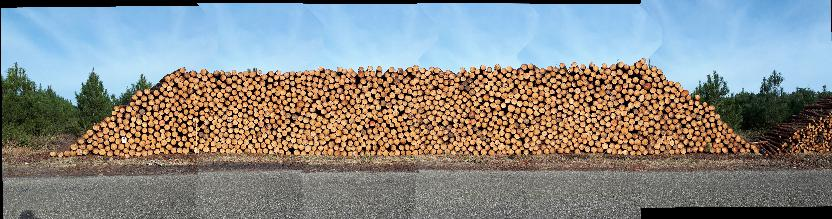object: (195, 121, 197, 154), (644, 82, 652, 90), (634, 100, 642, 108), (508, 104, 516, 112), (250, 70, 256, 78), (524, 72, 530, 80), (616, 84, 622, 92), (682, 90, 690, 96), (298, 100, 304, 108), (152, 104, 160, 110), (469, 110, 475, 118), (642, 115, 650, 121), (108, 122, 116, 128), (103, 126, 109, 134), (622, 127, 628, 135), (673, 132, 679, 140), (374, 135, 382, 141), (122, 136, 128, 144), (244, 138, 250, 146), (643, 138, 649, 146), (160, 140, 168, 146), (77, 148, 83, 156), (247, 84, 254, 90), (226, 86, 233, 92), (654, 115, 661, 121), (663, 124, 670, 130), (632, 145, 639, 151), (618, 61, 624, 67), (636, 62, 642, 68), (560, 62, 566, 68), (522, 64, 528, 70), (624, 64, 630, 70), (610, 64, 616, 70), (495, 64, 501, 70), (643, 64, 649, 70), (630, 64, 636, 70), (547, 65, 553, 71), (593, 66, 599, 72), (652, 66, 658, 72), (470, 66, 476, 72), (501, 68, 507, 74), (634, 68, 640, 74), (560, 68, 566, 74), (540, 68, 546, 74), (519, 68, 525, 74), (342, 68, 348, 74), (512, 68, 518, 74), (646, 68, 652, 74), (201, 69, 207, 75), (585, 69, 591, 75), (606, 69, 612, 75), (617, 69, 623, 75), (628, 69, 634, 75), (232, 69, 238, 75), (640, 70, 646, 76), (310, 70, 316, 76), (304, 70, 310, 76), (276, 70, 282, 76), (214, 70, 220, 76), (364, 70, 370, 76), (370, 70, 376, 76), (269, 70, 275, 76), (652, 71, 658, 77), (358, 71, 364, 77), (284, 72, 290, 78), (457, 72, 463, 78), (320, 72, 326, 78), (184, 72, 190, 78), (470, 72, 476, 78), (392, 72, 398, 78), (488, 72, 494, 78), (536, 73, 542, 79), (450, 73, 456, 79), (444, 74, 450, 80), (596, 74, 602, 80), (262, 74, 268, 80), (574, 74, 580, 80), (398, 74, 404, 80), (643, 74, 649, 80), (478, 74, 484, 80), (274, 74, 280, 80), (326, 74, 332, 80), (518, 74, 524, 80), (428, 74, 434, 80), (581, 74, 587, 80), (568, 75, 574, 81), (530, 76, 536, 82), (372, 76, 378, 82), (562, 76, 568, 82), (654, 76, 660, 82), (268, 76, 274, 82), (350, 77, 356, 83), (174, 77, 180, 83), (542, 77, 548, 83), (295, 77, 301, 83), (551, 77, 557, 83), (193, 77, 199, 83), (226, 78, 232, 84), (361, 78, 367, 84), (378, 78, 384, 84), (394, 78, 400, 84), (236, 78, 242, 84), (577, 80, 583, 86), (556, 80, 562, 86), (521, 80, 527, 86), (260, 80, 266, 86), (280, 80, 286, 86), (488, 80, 494, 86), (496, 80, 502, 86), (206, 81, 212, 87), (199, 81, 205, 87), (383, 81, 389, 87), (312, 82, 318, 88), (178, 82, 184, 88), (675, 82, 681, 88), (658, 82, 664, 88), (454, 82, 460, 88), (373, 82, 379, 88), (528, 82, 534, 88), (334, 82, 340, 88), (629, 82, 635, 88), (232, 82, 238, 88), (502, 82, 508, 88), (561, 83, 567, 89), (351, 83, 357, 89), (607, 83, 613, 89), (255, 83, 261, 89), (588, 83, 594, 89), (194, 84, 200, 90), (344, 84, 350, 90), (428, 84, 434, 90), (284, 84, 290, 90), (636, 84, 642, 90), (237, 85, 243, 91), (182, 86, 188, 92), (449, 86, 455, 92), (443, 86, 449, 92), (665, 86, 671, 92), (544, 86, 550, 92), (362, 86, 368, 92), (242, 86, 248, 92), (499, 87, 505, 93), (671, 87, 677, 93), (650, 87, 656, 93), (337, 88, 343, 94), (402, 88, 408, 94), (188, 88, 194, 94), (372, 88, 378, 94), (395, 88, 401, 94), (144, 88, 150, 94), (520, 88, 526, 94), (628, 89, 634, 95), (641, 89, 647, 95), (280, 89, 286, 95), (470, 89, 476, 95), (318, 89, 324, 95), (154, 89, 160, 95), (431, 90, 437, 96), (255, 90, 261, 96), (266, 90, 272, 96), (418, 90, 424, 96), (635, 90, 641, 96), (300, 90, 306, 96), (600, 90, 606, 96), (137, 90, 143, 96), (366, 91, 372, 97), (169, 91, 175, 97), (381, 91, 387, 97), (664, 92, 670, 98), (224, 92, 230, 98), (204, 92, 210, 98), (390, 92, 396, 98), (260, 92, 266, 98), (616, 92, 622, 98), (532, 93, 538, 99), (352, 93, 358, 99), (502, 93, 508, 99), (399, 93, 405, 99), (670, 94, 676, 100), (191, 94, 197, 100), (452, 94, 458, 100), (658, 94, 664, 100), (574, 94, 580, 100), (646, 94, 652, 100), (340, 94, 346, 100), (148, 94, 154, 100), (522, 94, 528, 100), (435, 94, 441, 100), (424, 94, 430, 100), (234, 94, 240, 100), (132, 94, 138, 100), (604, 94, 610, 100), (484, 94, 490, 100), (280, 95, 286, 101), (405, 95, 411, 101), (639, 96, 645, 102), (551, 96, 557, 102), (272, 96, 278, 102), (586, 96, 592, 102), (385, 96, 391, 102), (538, 96, 544, 102), (418, 96, 424, 102), (256, 96, 262, 102), (200, 96, 206, 102), (631, 96, 637, 102), (528, 96, 534, 102), (489, 96, 495, 102), (674, 97, 680, 103), (546, 97, 552, 103), (214, 97, 220, 103), (619, 97, 625, 103), (578, 98, 584, 104), (665, 98, 671, 104), (505, 98, 511, 104), (186, 98, 192, 104), (511, 98, 517, 104), (362, 99, 368, 105), (374, 99, 380, 105), (350, 99, 356, 105), (136, 99, 142, 105), (342, 99, 348, 105), (439, 100, 445, 106), (426, 100, 432, 106), (149, 100, 155, 106), (614, 100, 620, 106), (193, 100, 199, 106), (381, 100, 387, 106), (644, 100, 650, 106), (474, 100, 480, 106), (466, 101, 472, 107), (517, 101, 523, 107), (608, 101, 614, 107), (550, 102, 556, 108), (408, 102, 414, 108), (564, 102, 570, 108), (490, 102, 496, 108), (290, 102, 296, 108), (387, 102, 393, 108), (166, 102, 172, 108), (312, 102, 318, 108), (671, 102, 677, 108), (628, 102, 634, 108), (653, 102, 659, 108), (160, 103, 166, 109), (414, 103, 420, 109), (598, 104, 604, 110), (278, 104, 284, 110), (370, 104, 376, 110), (258, 104, 264, 110), (454, 104, 460, 110), (248, 104, 254, 110), (317, 104, 323, 110), (331, 104, 337, 110), (376, 104, 382, 110), (619, 105, 625, 111), (496, 105, 502, 111), (126, 106, 132, 112), (326, 106, 332, 112), (640, 106, 646, 112), (405, 107, 411, 113), (694, 107, 700, 113), (575, 108, 581, 114), (140, 109, 146, 115), (372, 109, 378, 115), (527, 109, 533, 115), (280, 109, 286, 115), (393, 110, 399, 116), (622, 110, 628, 116), (600, 111, 606, 117), (264, 111, 270, 117), (254, 111, 260, 117), (270, 112, 276, 118), (367, 112, 373, 118), (416, 112, 422, 118), (610, 113, 616, 119), (312, 113, 318, 119), (675, 113, 681, 119), (125, 113, 131, 119), (649, 113, 655, 119), (442, 114, 448, 120), (292, 114, 298, 120), (222, 114, 228, 120), (697, 114, 703, 120), (143, 115, 149, 121), (429, 115, 435, 121), (686, 115, 692, 121), (580, 115, 586, 121), (605, 116, 611, 122), (546, 116, 552, 122), (355, 116, 361, 122), (710, 116, 716, 122), (304, 117, 310, 123), (592, 117, 598, 123), (117, 118, 123, 124), (349, 118, 355, 124), (323, 118, 329, 124), (285, 118, 291, 124), (667, 119, 673, 125), (629, 119, 635, 125), (123, 119, 129, 125), (310, 119, 316, 125), (497, 119, 503, 125), (470, 119, 476, 125), (600, 119, 606, 125), (612, 120, 618, 126), (638, 120, 644, 126), (342, 120, 348, 126), (159, 120, 165, 126), (618, 120, 624, 126), (691, 120, 697, 126), (570, 121, 576, 127), (259, 121, 265, 127), (101, 121, 107, 127), (644, 121, 650, 127), (580, 121, 586, 127), (315, 121, 321, 127), (546, 122, 552, 128), (476, 122, 482, 128), (482, 122, 488, 128), (514, 122, 520, 128), (249, 122, 255, 128), (534, 122, 540, 128), (676, 123, 682, 129), (655, 124, 661, 130), (670, 124, 676, 130), (94, 124, 100, 130), (635, 124, 641, 130), (447, 125, 453, 131), (410, 125, 416, 131), (616, 125, 622, 131), (540, 125, 546, 131), (700, 126, 706, 132), (584, 126, 590, 132), (262, 127, 268, 133), (648, 127, 654, 133), (148, 127, 154, 133), (234, 127, 240, 133), (606, 127, 612, 133), (683, 128, 689, 134), (228, 128, 234, 134), (204, 128, 210, 134), (728, 128, 734, 134), (524, 128, 530, 134), (569, 128, 575, 134), (160, 128, 166, 134), (517, 128, 523, 134), (214, 128, 220, 134), (511, 129, 517, 135), (324, 129, 330, 135), (468, 129, 474, 135), (534, 129, 540, 135), (351, 129, 357, 135), (661, 129, 667, 135), (722, 129, 728, 135), (655, 129, 661, 135), (614, 130, 620, 136), (192, 130, 198, 136), (282, 130, 288, 136), (120, 130, 126, 136), (336, 130, 342, 136), (437, 130, 443, 136), (172, 131, 178, 137), (356, 132, 362, 138), (448, 132, 454, 138), (574, 132, 580, 138), (520, 132, 526, 138), (608, 132, 614, 138), (210, 132, 216, 138), (601, 132, 607, 138), (581, 133, 587, 139), (627, 133, 633, 139), (558, 133, 564, 139), (515, 134, 521, 140), (330, 134, 336, 140), (548, 134, 554, 140), (240, 134, 246, 140), (592, 134, 598, 140), (269, 134, 275, 140), (638, 134, 644, 140), (414, 134, 420, 140), (647, 134, 653, 140), (540, 134, 546, 140), (142, 135, 148, 141), (480, 135, 486, 141), (342, 135, 348, 141), (692, 136, 698, 142), (286, 136, 292, 142), (324, 136, 330, 142), (214, 136, 220, 142), (736, 136, 742, 142), (109, 136, 115, 142), (698, 136, 704, 142), (166, 136, 172, 142), (258, 136, 264, 142), (358, 137, 364, 143), (716, 137, 722, 143), (512, 137, 518, 143), (226, 138, 232, 144), (600, 138, 606, 144), (78, 138, 84, 144), (401, 138, 407, 144), (658, 138, 664, 144), (630, 138, 636, 144), (476, 138, 482, 144), (232, 138, 238, 144), (116, 139, 122, 145), (394, 139, 400, 145), (238, 139, 244, 145), (635, 139, 641, 145), (320, 139, 326, 145), (470, 140, 476, 146), (550, 140, 556, 146), (412, 140, 418, 146), (650, 140, 656, 146), (308, 140, 314, 146), (348, 140, 354, 146), (204, 140, 210, 146), (530, 140, 536, 146), (272, 141, 278, 147), (140, 141, 146, 147), (361, 142, 367, 148), (574, 142, 580, 148), (490, 142, 496, 148), (524, 142, 530, 148), (561, 142, 567, 148), (384, 142, 390, 148), (329, 142, 335, 148), (216, 142, 222, 148), (728, 142, 734, 148), (718, 142, 724, 148), (288, 142, 294, 148), (255, 143, 261, 149), (622, 143, 628, 149), (679, 143, 685, 149), (222, 143, 228, 149), (198, 143, 204, 149), (248, 144, 254, 150), (434, 144, 440, 150), (72, 144, 78, 150), (554, 144, 560, 150), (441, 144, 447, 150), (80, 144, 86, 150), (499, 144, 505, 150), (111, 144, 117, 150), (448, 144, 454, 150), (118, 144, 124, 150), (420, 144, 426, 150), (234, 144, 240, 150), (167, 144, 173, 150), (512, 144, 518, 150), (666, 144, 672, 150), (87, 145, 93, 151), (660, 145, 666, 151), (698, 146, 704, 152), (356, 146, 362, 152), (305, 146, 311, 152), (692, 146, 698, 152), (211, 146, 217, 152), (585, 146, 591, 152), (732, 147, 738, 153), (274, 147, 280, 153), (710, 147, 716, 153), (716, 147, 722, 153), (723, 147, 729, 153), (564, 148, 570, 154), (558, 148, 564, 154), (550, 148, 556, 154), (183, 148, 189, 154), (226, 148, 232, 154), (93, 148, 99, 154), (612, 148, 618, 154), (544, 149, 550, 155), (508, 149, 514, 155), (515, 149, 521, 155), (100, 149, 106, 155), (328, 149, 334, 155), (481, 149, 487, 155), (322, 150, 328, 156), (129, 150, 135, 156), (294, 150, 300, 156), (489, 150, 495, 156), (636, 150, 642, 156), (315, 150, 321, 156), (384, 150, 390, 156), (309, 150, 315, 156), (335, 150, 341, 156), (142, 150, 148, 156), (70, 150, 76, 156), (64, 151, 70, 157), (58, 151, 64, 157), (50, 151, 56, 157), (482, 64, 487, 70), (367, 65, 372, 71), (430, 66, 435, 72), (408, 66, 413, 72), (475, 68, 480, 74), (315, 70, 320, 76), (425, 70, 430, 76), (244, 70, 249, 76), (177, 70, 182, 76), (421, 74, 426, 80), (341, 74, 346, 80), (301, 74, 306, 80), (203, 75, 208, 81), (188, 76, 193, 82), (484, 78, 489, 84), (425, 78, 430, 84), (434, 80, 439, 86), (244, 80, 249, 86), (367, 82, 372, 88), (480, 82, 485, 88), (221, 82, 226, 88), (405, 83, 410, 89), (475, 86, 480, 92), (292, 86, 297, 92), (356, 88, 361, 94), (275, 90, 280, 96), (218, 92, 223, 98), (252, 94, 257, 100), (142, 95, 147, 101), (266, 95, 271, 101), (304, 96, 309, 102), (171, 97, 176, 103), (142, 101, 147, 107), (209, 101, 214, 107), (501, 102, 506, 108), (218, 102, 223, 108), (393, 104, 398, 110), (263, 106, 268, 112), (214, 106, 219, 112), (486, 106, 491, 112), (290, 109, 296, 114), (551, 109, 557, 114), (388, 109, 394, 114), (165, 108, 170, 114), (362, 109, 368, 114), (411, 109, 417, 114), (679, 109, 685, 114), (445, 109, 450, 115), (545, 111, 551, 116), (218, 111, 224, 116), (568, 111, 574, 116), (209, 110, 214, 116), (227, 111, 233, 116), (306, 113, 312, 118), (462, 113, 468, 118), (346, 113, 352, 118), (204, 113, 210, 118), (285, 113, 291, 118), (232, 115, 238, 120), (398, 117, 404, 122), (318, 116, 323, 122), (249, 117, 255, 122), (492, 117, 498, 122), (702, 119, 708, 124), (509, 119, 515, 124), (386, 119, 392, 124), (424, 119, 430, 124), (418, 119, 424, 124), (524, 119, 530, 124), (270, 119, 276, 124), (136, 118, 141, 124), (697, 121, 703, 126), (649, 121, 655, 126), (432, 121, 438, 126), (174, 123, 180, 128), (227, 123, 233, 128), (588, 123, 594, 128), (414, 123, 420, 128), (381, 123, 387, 128), (327, 123, 332, 129), (266, 125, 272, 130), (346, 125, 352, 130), (338, 125, 344, 130), (574, 125, 580, 130), (210, 125, 216, 130), (434, 127, 440, 132), (592, 127, 598, 132), (558, 127, 564, 132), (458, 127, 463, 133), (130, 128, 135, 134), (367, 128, 372, 134), (499, 130, 504, 136), (245, 130, 250, 136), (219, 132, 224, 138), (127, 132, 132, 138), (278, 132, 283, 138), (506, 133, 511, 139), (471, 133, 476, 139), (301, 134, 306, 140), (370, 134, 375, 140), (94, 134, 99, 140), (104, 134, 109, 140), (434, 134, 439, 140), (177, 136, 182, 142), (408, 136, 413, 142), (292, 137, 297, 143), (304, 139, 309, 145), (379, 140, 384, 146), (104, 140, 109, 146), (211, 140, 216, 146), (242, 144, 247, 150), (151, 144, 156, 150), (204, 146, 209, 152), (125, 148, 130, 154), (263, 148, 268, 154), (237, 148, 242, 154), (83, 149, 88, 155), (432, 149, 437, 155), (396, 150, 401, 156), (451, 150, 456, 156), (473, 150, 478, 156), (301, 150, 306, 156), (353, 150, 358, 156), (233, 109, 238, 114), (458, 109, 463, 114), (475, 109, 480, 114), (113, 111, 118, 116), (188, 115, 193, 120), (475, 115, 480, 120), (214, 115, 219, 120), (228, 117, 233, 122), (408, 121, 413, 126), (233, 121, 238, 126), (428, 125, 433, 130), (188, 127, 193, 132), (473, 127, 478, 132), (642, 58, 646, 64), (572, 62, 578, 66), (602, 64, 608, 68), (528, 64, 534, 68), (580, 64, 586, 68), (413, 66, 419, 70), (359, 66, 365, 70), (508, 66, 512, 72), (319, 66, 323, 72), (338, 66, 342, 72), (568, 67, 574, 71), (488, 66, 492, 72), (390, 66, 394, 72), (574, 68, 580, 72), (434, 68, 440, 72), (180, 68, 186, 72), (460, 68, 466, 72), (420, 68, 426, 72), (397, 68, 403, 72), (600, 68, 604, 74), (578, 70, 584, 74), (258, 69, 262, 75), (494, 70, 498, 76), (290, 71, 296, 75), (192, 70, 196, 76), (612, 70, 616, 76), (404, 70, 408, 76), (551, 70, 555, 76), (592, 71, 596, 77), (416, 72, 422, 76), (386, 72, 390, 78), (348, 72, 352, 78), (198, 72, 202, 78), (239, 72, 243, 78), (545, 74, 551, 78), (498, 74, 504, 78), (624, 73, 628, 79), (171, 73, 175, 79), (556, 74, 562, 78), (602, 74, 608, 78), (512, 74, 516, 80), (660, 75, 666, 79), (435, 74, 439, 80), (608, 76, 614, 80), (406, 76, 412, 80), (307, 76, 313, 80), (336, 75, 340, 81), (232, 76, 238, 80), (256, 76, 262, 80), (180, 76, 184, 82), (462, 76, 466, 82), (589, 76, 593, 82), (166, 76, 170, 82), (492, 77, 498, 81), (314, 76, 318, 82), (647, 78, 653, 82), (502, 78, 508, 82), (388, 78, 394, 82), (454, 78, 460, 82), (633, 78, 639, 82), (414, 78, 420, 82), (438, 78, 444, 82), (626, 78, 632, 82), (508, 78, 512, 84), (346, 78, 350, 84), (319, 78, 323, 84), (404, 78, 408, 84), (613, 78, 617, 84), (536, 79, 542, 83), (604, 80, 610, 84), (618, 80, 624, 84), (515, 80, 521, 84), (640, 80, 646, 84), (324, 80, 330, 84), (663, 80, 669, 84), (340, 79, 344, 85), (595, 80, 601, 84), (184, 80, 188, 86), (253, 80, 257, 86), (584, 80, 588, 86), (291, 80, 295, 86), (170, 80, 174, 86), (462, 82, 468, 86), (572, 82, 578, 86), (566, 82, 572, 86), (546, 82, 552, 86), (652, 82, 658, 86), (164, 82, 168, 88), (190, 82, 194, 88), (470, 82, 474, 88), (623, 84, 629, 88), (552, 84, 558, 88), (398, 84, 404, 88), (296, 84, 302, 88), (518, 84, 524, 88), (602, 84, 606, 90), (417, 84, 421, 90), (392, 84, 396, 90), (538, 86, 544, 90), (411, 86, 417, 90), (492, 86, 498, 90), (324, 85, 328, 91), (582, 86, 588, 90), (680, 86, 684, 92), (308, 86, 312, 92), (161, 86, 165, 92), (378, 86, 382, 92), (262, 87, 266, 93), (174, 87, 178, 93), (533, 88, 539, 92), (385, 88, 391, 92), (556, 88, 562, 92), (314, 88, 318, 94), (576, 88, 580, 94), (514, 88, 518, 94), (658, 88, 662, 94), (591, 88, 595, 94), (622, 90, 628, 94), (480, 90, 486, 94), (550, 90, 556, 94), (528, 89, 532, 95), (606, 90, 612, 94), (179, 89, 183, 95), (348, 90, 354, 94), (330, 90, 336, 94), (232, 90, 238, 94), (586, 90, 590, 96), (490, 90, 494, 96), (463, 90, 467, 96), (540, 90, 544, 96), (164, 90, 168, 96), (414, 90, 418, 96), (495, 92, 501, 96), (476, 92, 482, 96), (292, 92, 298, 96), (183, 92, 189, 96), (286, 92, 292, 96), (580, 92, 584, 98), (442, 92, 446, 98), (510, 92, 514, 98), (558, 92, 562, 98), (596, 92, 600, 98), (515, 94, 521, 98), (376, 93, 380, 99), (652, 94, 658, 98), (466, 94, 472, 98), (566, 94, 572, 98), (361, 93, 365, 99), (314, 94, 318, 100), (176, 94, 180, 100), (696, 94, 700, 100), (298, 94, 302, 100), (626, 95, 630, 101), (610, 96, 616, 100), (686, 96, 692, 100), (208, 96, 212, 102), (243, 96, 247, 102), (446, 97, 452, 101), (462, 97, 468, 101), (369, 96, 373, 102), (478, 98, 484, 102), (680, 98, 686, 102), (412, 98, 418, 102), (308, 98, 314, 102), (356, 98, 362, 102), (179, 98, 185, 102), (570, 98, 574, 104), (392, 98, 396, 104), (534, 98, 538, 104), (278, 98, 282, 104), (156, 98, 160, 104), (556, 100, 562, 104), (316, 100, 322, 104), (495, 100, 501, 104), (602, 100, 608, 104), (690, 100, 694, 106), (660, 100, 664, 106), (284, 100, 288, 106), (696, 100, 700, 106), (329, 100, 333, 106), (594, 100, 598, 106), (262, 101, 268, 105), (232, 102, 238, 106), (253, 102, 259, 106), (574, 102, 580, 106), (198, 102, 204, 106), (420, 102, 426, 106), (484, 102, 490, 106), (268, 102, 274, 106), (529, 102, 533, 108), (704, 102, 708, 108), (305, 102, 309, 108), (684, 102, 688, 108), (677, 104, 683, 108), (338, 104, 344, 108), (355, 104, 361, 108), (360, 104, 366, 108), (546, 104, 550, 110), (710, 106, 716, 110), (570, 105, 574, 111), (424, 106, 430, 110), (688, 106, 694, 110), (647, 106, 653, 110), (480, 106, 486, 110), (228, 106, 234, 110), (147, 106, 153, 110), (134, 106, 140, 110), (194, 106, 200, 110), (115, 106, 121, 110), (172, 106, 176, 112), (442, 106, 446, 112), (223, 106, 227, 112), (626, 106, 630, 112), (466, 106, 470, 112), (522, 106, 526, 112), (342, 108, 348, 112), (296, 108, 302, 112), (310, 108, 316, 112), (610, 108, 616, 112), (204, 108, 210, 112), (268, 108, 274, 112), (418, 108, 424, 112), (539, 108, 545, 112), (350, 108, 356, 112), (516, 108, 520, 114), (652, 110, 658, 114), (616, 109, 620, 115), (356, 110, 362, 114), (336, 110, 342, 114), (248, 110, 254, 114), (432, 110, 438, 114), (644, 110, 650, 114), (580, 111, 586, 115), (132, 110, 136, 116), (534, 112, 540, 116), (146, 112, 152, 116), (437, 112, 443, 116), (638, 112, 644, 116), (480, 112, 486, 116), (670, 112, 674, 118), (488, 112, 492, 118), (178, 114, 184, 118), (361, 114, 367, 118), (408, 114, 414, 118), (388, 114, 394, 118), (716, 114, 720, 120), (616, 116, 622, 120), (148, 116, 154, 120), (200, 116, 206, 120), (298, 116, 304, 120), (624, 117, 630, 121), (484, 118, 490, 122), (556, 118, 562, 122), (436, 118, 442, 122), (378, 118, 384, 122), (586, 118, 592, 122), (193, 118, 199, 122), (336, 118, 342, 122), (392, 118, 398, 122), (520, 117, 524, 123), (330, 118, 336, 122), (218, 119, 224, 123), (576, 118, 580, 124), (660, 120, 666, 124), (204, 120, 210, 124), (212, 120, 218, 124), (718, 120, 722, 126), (370, 122, 376, 126), (150, 121, 154, 127), (490, 121, 494, 127), (606, 122, 612, 126), (395, 122, 401, 126), (624, 122, 630, 126), (560, 122, 564, 128), (130, 123, 136, 127), (594, 123, 600, 127), (706, 122, 710, 128), (216, 124, 222, 128), (119, 124, 125, 128), (566, 123, 570, 129), (238, 124, 244, 128), (352, 124, 358, 128), (182, 123, 186, 129), (724, 123, 728, 129), (520, 124, 526, 128), (282, 123, 286, 129), (156, 124, 160, 130), (500, 126, 506, 130), (244, 126, 250, 130), (552, 126, 558, 130), (136, 126, 142, 130), (694, 126, 700, 130), (630, 125, 634, 131), (610, 126, 616, 130), (600, 126, 604, 132), (378, 127, 384, 131), (115, 126, 119, 132), (221, 128, 227, 132), (286, 128, 292, 132), (331, 128, 337, 132), (384, 128, 390, 132), (578, 128, 584, 132), (316, 128, 322, 132), (143, 127, 147, 133), (548, 128, 552, 134), (690, 128, 694, 134), (374, 128, 378, 134), (416, 128, 420, 134), (343, 130, 349, 134), (298, 130, 304, 134), (482, 130, 488, 134), (391, 130, 397, 134), (250, 130, 256, 134), (306, 129, 310, 135), (431, 130, 437, 134), (667, 130, 673, 134), (708, 129, 712, 135), (596, 130, 600, 136), (110, 130, 114, 136), (88, 130, 92, 136), (552, 131, 558, 135), (564, 130, 568, 136), (272, 131, 278, 135), (644, 130, 648, 136), (696, 130, 700, 136), (476, 132, 482, 136), (312, 131, 316, 137), (380, 132, 386, 136), (154, 132, 160, 136), (166, 132, 172, 136), (98, 132, 104, 136), (412, 131, 416, 137), (716, 132, 722, 136), (528, 132, 534, 136), (135, 132, 141, 136), (454, 132, 460, 136), (225, 132, 229, 138), (732, 132, 736, 138), (398, 134, 404, 138), (387, 134, 393, 138), (296, 134, 302, 138), (320, 133, 324, 139), (633, 134, 639, 138), (726, 134, 732, 138), (252, 134, 258, 138), (236, 134, 240, 140), (620, 134, 624, 140), (162, 134, 166, 140), (364, 134, 368, 140), (654, 134, 658, 140), (680, 134, 684, 140), (149, 134, 153, 140), (308, 136, 314, 140), (352, 136, 358, 140), (532, 136, 538, 140), (457, 136, 461, 142), (614, 136, 618, 142), (158, 136, 162, 142), (384, 136, 388, 142), (500, 138, 506, 142), (572, 138, 578, 142), (220, 138, 226, 142), (563, 138, 569, 142), (276, 138, 282, 142), (336, 137, 340, 143), (730, 138, 734, 144), (98, 138, 102, 144), (130, 138, 134, 144), (252, 138, 256, 144), (583, 138, 587, 144), (546, 138, 550, 144), (724, 140, 730, 144), (437, 140, 443, 144), (684, 140, 690, 144), (146, 140, 152, 144), (172, 139, 176, 145), (390, 139, 394, 145), (536, 140, 542, 144), (366, 140, 372, 144), (284, 140, 288, 146), (372, 141, 378, 145), (670, 140, 674, 146), (590, 140, 594, 146), (194, 140, 198, 146), (354, 141, 360, 145), (314, 142, 320, 146), (93, 142, 99, 146), (518, 141, 522, 147), (690, 141, 694, 147), (596, 142, 602, 146), (464, 142, 470, 146), (696, 142, 702, 146), (702, 142, 708, 146), (178, 142, 184, 146), (126, 142, 130, 148), (186, 142, 190, 148), (709, 142, 713, 148), (262, 142, 266, 148), (746, 142, 750, 148), (714, 143, 718, 149), (278, 144, 284, 148), (655, 144, 661, 148), (603, 144, 609, 148), (294, 144, 300, 148), (131, 144, 137, 148), (98, 144, 104, 148), (674, 144, 678, 150), (580, 144, 584, 150), (615, 145, 621, 149), (542, 144, 546, 150), (269, 144, 273, 150), (752, 144, 756, 150), (146, 144, 150, 150), (300, 144, 304, 150), (648, 144, 652, 150), (406, 144, 410, 150), (400, 144, 404, 150), (334, 146, 340, 150), (534, 145, 538, 151), (366, 146, 372, 150), (324, 146, 330, 150), (410, 146, 416, 150), (476, 146, 482, 150), (318, 146, 324, 150), (380, 146, 386, 150), (283, 146, 289, 150), (352, 146, 356, 152), (138, 146, 142, 152), (640, 146, 644, 152), (456, 146, 460, 152), (470, 146, 474, 152), (340, 146, 344, 152), (704, 148, 710, 152), (598, 148, 604, 152), (194, 148, 200, 152), (592, 147, 596, 153), (740, 148, 746, 152), (177, 148, 183, 152), (172, 148, 176, 154), (754, 149, 760, 153), (608, 148, 612, 154), (258, 148, 262, 154), (221, 148, 225, 154), (682, 148, 686, 154), (425, 148, 429, 154), (675, 150, 681, 154), (437, 150, 443, 154), (154, 150, 160, 154), (574, 150, 580, 154), (418, 150, 424, 154), (618, 150, 624, 154), (524, 150, 530, 154), (537, 150, 543, 154), (502, 150, 508, 154), (664, 150, 670, 154), (148, 150, 154, 154), (464, 150, 470, 154), (413, 150, 419, 154), (378, 150, 382, 156), (115, 150, 119, 156), (406, 151, 412, 155), (630, 151, 636, 155), (372, 150, 376, 156), (390, 150, 394, 156), (286, 152, 292, 156), (484, 71, 489, 75), (226, 72, 231, 76), (221, 76, 226, 80), (367, 76, 372, 80), (242, 77, 247, 81), (247, 78, 252, 82), (475, 80, 480, 84), (301, 80, 306, 84), (218, 80, 223, 84), (318, 83, 323, 87), (330, 84, 335, 88), (421, 85, 426, 89), (460, 86, 465, 90), (486, 86, 491, 90), (203, 88, 208, 92), (456, 90, 461, 94), (425, 90, 430, 94), (247, 92, 252, 96), (447, 92, 452, 96), (240, 92, 245, 96), (211, 92, 216, 96), (330, 96, 335, 100), (430, 96, 435, 100), (471, 96, 476, 100), (219, 98, 224, 102), (237, 99, 242, 103), (449, 100, 454, 104), (458, 100, 463, 104), (434, 100, 439, 104), (130, 102, 135, 106), (445, 104, 450, 108), (188, 104, 193, 108), (237, 104, 242, 108), (471, 106, 476, 110), (304, 108, 309, 112), (190, 109, 194, 114), (607, 111, 611, 116), (494, 111, 498, 116), (201, 111, 205, 116), (331, 111, 335, 116), (175, 111, 179, 116), (710, 111, 714, 116), (499, 112, 504, 116), (451, 112, 456, 116), (170, 113, 174, 118), (118, 113, 122, 118), (508, 113, 512, 118), (378, 113, 382, 118), (592, 113, 596, 118), (522, 113, 526, 118), (136, 114, 141, 118), (244, 114, 249, 118), (421, 114, 426, 118), (341, 114, 346, 118), (514, 115, 518, 120), (457, 115, 461, 120), (542, 115, 546, 120), (664, 115, 668, 120), (275, 115, 280, 119), (597, 115, 601, 120), (384, 115, 388, 120), (165, 116, 170, 120), (447, 116, 452, 120), (112, 117, 116, 122), (209, 117, 213, 122), (569, 117, 573, 122), (536, 117, 540, 122), (132, 117, 136, 122), (237, 118, 242, 122), (454, 118, 459, 122), (461, 119, 465, 124), (178, 119, 182, 124), (674, 119, 678, 124), (466, 119, 470, 124), (244, 120, 249, 124), (278, 120, 283, 124), (188, 121, 192, 126), (503, 121, 507, 126), (444, 121, 448, 126), (296, 121, 300, 126), (361, 121, 365, 126), (142, 122, 147, 126), (391, 123, 395, 128), (334, 123, 338, 128), (712, 123, 716, 128), (454, 124, 459, 128), (202, 125, 206, 130), (322, 125, 326, 130), (421, 125, 425, 130), (495, 125, 499, 130), (166, 125, 170, 130), (312, 125, 316, 130), (256, 127, 260, 132), (278, 128, 283, 132), (451, 128, 456, 132), (182, 130, 187, 134), (423, 130, 428, 134), (240, 130, 245, 134), (405, 132, 410, 136), (292, 132, 297, 136), (230, 134, 235, 138), (83, 134, 88, 138), (393, 135, 398, 139), (428, 136, 433, 140), (194, 136, 199, 140), (449, 138, 454, 142), (266, 140, 271, 144), (506, 140, 511, 144), (432, 140, 437, 144), (454, 142, 459, 146), (341, 142, 346, 146), (230, 144, 235, 148), (156, 144, 161, 148), (506, 146, 511, 150), (486, 146, 491, 150), (428, 146, 433, 150), (245, 149, 250, 153), (252, 149, 257, 153), (445, 150, 450, 154), (108, 152, 113, 156), (341, 152, 346, 156), (136, 152, 141, 156), (125, 154, 130, 158), (590, 62, 594, 66), (378, 66, 382, 70), (554, 68, 558, 72), (535, 68, 539, 72), (349, 68, 353, 72), (326, 70, 330, 74), (658, 70, 662, 74), (530, 70, 534, 74), (447, 70, 451, 74), (220, 70, 224, 74), (413, 71, 417, 75), (465, 72, 469, 76), (332, 72, 336, 76), (298, 72, 302, 76), (378, 72, 382, 76), (352, 72, 356, 76), (566, 72, 570, 76), (440, 72, 444, 76), (507, 73, 511, 77), (208, 73, 212, 77), (616, 75, 620, 79), (280, 75, 284, 79), (290, 76, 294, 80), (211, 78, 215, 82), (468, 78, 472, 82), (330, 78, 334, 82), (286, 79, 290, 83), (412, 80, 416, 84), (450, 80, 454, 84), (444, 80, 448, 84), (420, 80, 424, 84), (670, 82, 674, 86), (274, 82, 278, 86), (308, 82, 312, 86), (212, 83, 216, 87), (359, 84, 363, 88), (510, 84, 514, 88), (440, 84, 444, 88), (268, 84, 272, 88), (525, 86, 529, 90), (277, 86, 281, 90), (302, 86, 306, 90), (466, 86, 470, 90), (168, 86, 172, 90), (597, 87, 601, 91), (506, 88, 510, 92), (208, 88, 212, 92), (272, 88, 276, 92), (570, 88, 574, 92), (215, 88, 219, 92), (221, 89, 225, 93), (297, 89, 301, 93), (438, 90, 442, 94), (409, 90, 413, 94), (198, 90, 202, 94), (612, 90, 616, 94), (562, 90, 566, 94), (344, 91, 348, 95), (326, 92, 330, 96), (546, 92, 550, 96), (676, 92, 680, 96), (309, 92, 313, 96), (336, 94, 340, 98), (459, 95, 463, 99), (197, 96, 201, 100), (160, 96, 164, 100), (347, 96, 351, 100), (230, 96, 234, 100), (322, 96, 326, 100), (288, 98, 292, 102), (166, 98, 170, 102), (563, 98, 567, 102), (294, 98, 298, 102), (598, 98, 602, 102), (652, 99, 656, 103), (249, 99, 253, 103), (334, 100, 338, 104), (398, 100, 402, 104), (226, 101, 230, 105), (524, 102, 528, 106), (403, 102, 407, 106), (175, 102, 179, 106), (204, 102, 208, 106), (324, 102, 328, 106), (244, 102, 248, 106), (584, 102, 588, 106), (540, 103, 544, 107), (274, 104, 278, 108), (461, 104, 465, 108), (183, 104, 187, 108), (366, 104, 370, 108), (348, 104, 352, 108), (430, 105, 434, 109), (699, 105, 703, 109), (534, 106, 538, 110), (559, 106, 563, 110), (400, 106, 404, 110), (604, 106, 608, 110), (436, 106, 440, 110), (580, 106, 584, 110), (660, 106, 664, 110), (286, 106, 290, 110), (592, 106, 596, 110), (178, 107, 182, 111), (450, 107, 454, 111), (254, 108, 258, 112), (666, 108, 670, 112), (586, 108, 590, 112), (705, 108, 709, 112), (121, 108, 125, 112), (243, 108, 247, 112), (674, 108, 678, 112), (564, 109, 568, 113), (276, 109, 280, 113), (383, 110, 387, 114), (322, 110, 326, 114), (634, 110, 638, 114), (184, 110, 188, 114), (596, 110, 600, 114), (700, 110, 704, 114), (260, 110, 264, 114), (686, 110, 690, 114), (160, 110, 164, 114), (427, 111, 431, 115), (301, 111, 305, 115), (659, 111, 663, 115), (195, 112, 199, 116), (239, 112, 243, 116), (154, 112, 158, 116), (558, 113, 562, 117), (586, 113, 590, 117), (692, 114, 696, 118), (563, 114, 567, 118), (630, 114, 634, 118), (352, 114, 356, 118), (706, 114, 710, 118), (326, 114, 330, 118), (404, 114, 408, 118), (682, 114, 686, 118), (553, 114, 557, 118), (574, 114, 578, 118), (335, 115, 339, 119), (374, 115, 378, 119), (529, 116, 533, 120), (158, 116, 162, 120), (260, 116, 264, 120), (503, 116, 507, 120), (282, 116, 286, 120), (184, 116, 188, 120), (636, 116, 640, 120), (106, 118, 110, 122), (172, 118, 176, 122), (480, 118, 484, 122), (413, 118, 417, 122), (366, 118, 370, 122), (564, 118, 568, 122), (266, 119, 270, 123), (154, 120, 158, 124), (682, 120, 686, 124), (532, 120, 536, 124), (552, 120, 556, 124), (542, 120, 546, 124), (169, 122, 173, 126), (223, 122, 227, 126), (402, 122, 406, 126), (194, 123, 198, 127), (291, 123, 295, 127), (366, 124, 370, 128), (376, 124, 380, 128), (300, 124, 304, 128), (459, 124, 463, 128), (468, 124, 472, 128), (687, 124, 691, 128), (306, 124, 310, 128), (509, 124, 513, 128), (274, 124, 278, 128), (126, 126, 130, 130), (488, 126, 492, 130), (358, 126, 362, 130), (530, 126, 534, 130), (441, 126, 445, 130), (718, 126, 722, 130), (404, 126, 408, 130), (196, 127, 200, 131), (172, 127, 176, 131), (642, 127, 646, 131), (463, 127, 467, 131), (179, 127, 183, 131), (294, 128, 298, 132), (398, 128, 402, 132), (506, 128, 510, 132), (714, 128, 718, 132), (678, 130, 682, 134), (444, 130, 448, 134), (494, 130, 498, 134), (639, 130, 643, 134), (267, 130, 271, 134), (362, 131, 366, 135), (543, 132, 547, 136), (588, 132, 592, 136), (462, 132, 466, 136), (488, 132, 492, 136), (420, 132, 424, 136), (258, 132, 262, 136), (702, 132, 706, 136), (200, 132, 204, 136), (189, 133, 193, 137), (115, 134, 119, 138), (712, 134, 716, 138), (263, 134, 267, 138), (204, 134, 208, 138), (688, 134, 692, 138), (569, 134, 573, 138), (349, 135, 353, 139), (496, 135, 500, 139), (721, 135, 725, 139), (662, 135, 666, 139), (555, 135, 559, 139), (444, 136, 448, 140), (248, 136, 252, 140), (668, 136, 672, 140), (588, 136, 592, 140), (315, 136, 319, 140), (422, 137, 426, 141), (183, 137, 187, 141), (491, 137, 495, 141), (525, 138, 529, 142), (706, 138, 710, 142), (208, 138, 212, 142), (606, 138, 610, 142), (486, 138, 490, 142), (579, 138, 583, 142), (136, 138, 140, 142), (88, 138, 92, 142), (190, 138, 194, 142), (624, 138, 628, 142), (201, 139, 205, 143), (298, 140, 302, 144), (152, 140, 156, 144), (618, 140, 622, 144), (557, 140, 561, 144), (741, 140, 745, 144), (676, 140, 680, 144), (418, 140, 422, 144), (425, 140, 429, 144), (664, 140, 668, 144), (496, 140, 500, 144), (568, 141, 572, 145), (482, 142, 486, 146), (734, 142, 738, 146), (459, 142, 463, 146), (610, 144, 614, 148), (738, 144, 742, 148), (415, 144, 419, 148), (548, 145, 552, 149), (190, 145, 194, 149), (570, 146, 574, 150), (392, 146, 396, 150), (520, 146, 524, 150), (374, 146, 378, 150), (313, 146, 317, 150), (106, 146, 110, 150), (462, 146, 466, 150), (530, 147, 534, 151), (494, 147, 498, 151), (346, 147, 350, 151), (628, 147, 632, 151), (160, 148, 164, 152), (747, 148, 751, 152), (688, 148, 692, 152), (232, 149, 236, 153), (656, 150, 660, 154), (650, 150, 654, 154), (164, 150, 168, 154), (670, 150, 674, 154), (624, 150, 628, 154), (280, 150, 284, 154), (644, 150, 648, 154), (270, 150, 274, 154), (533, 150, 537, 154), (401, 151, 405, 155), (498, 151, 502, 155), (366, 151, 370, 155), (361, 152, 365, 156), (348, 152, 352, 156), (120, 153, 124, 157), (256, 119, 258, 123), (459, 152, 463, 154)
pile: (44, 56, 764, 162)
